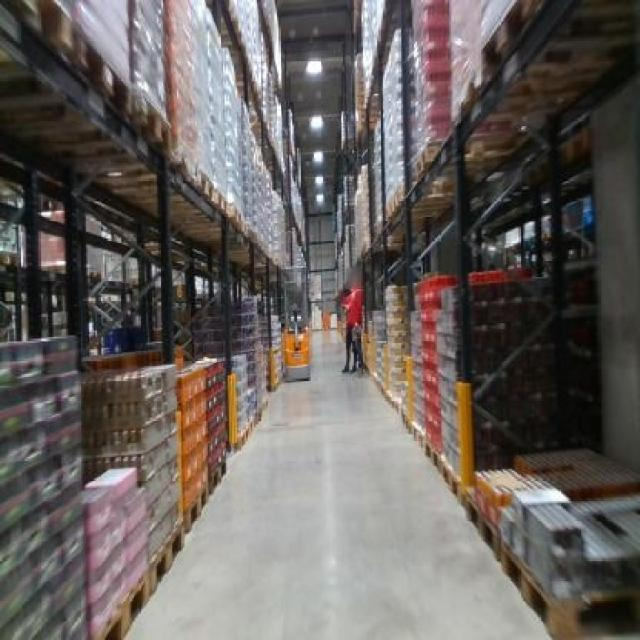pallets: (0, 335, 83, 637)
